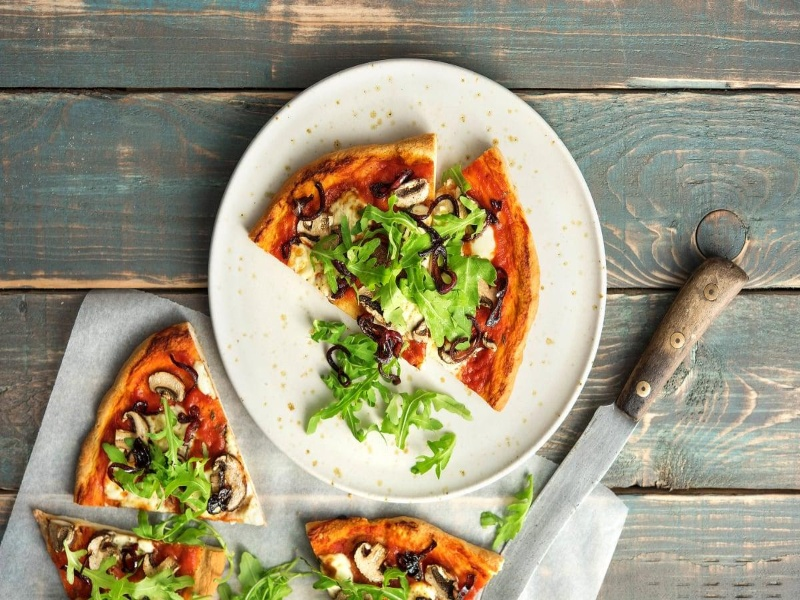champignon: (350, 541, 394, 585), (388, 177, 430, 209)
